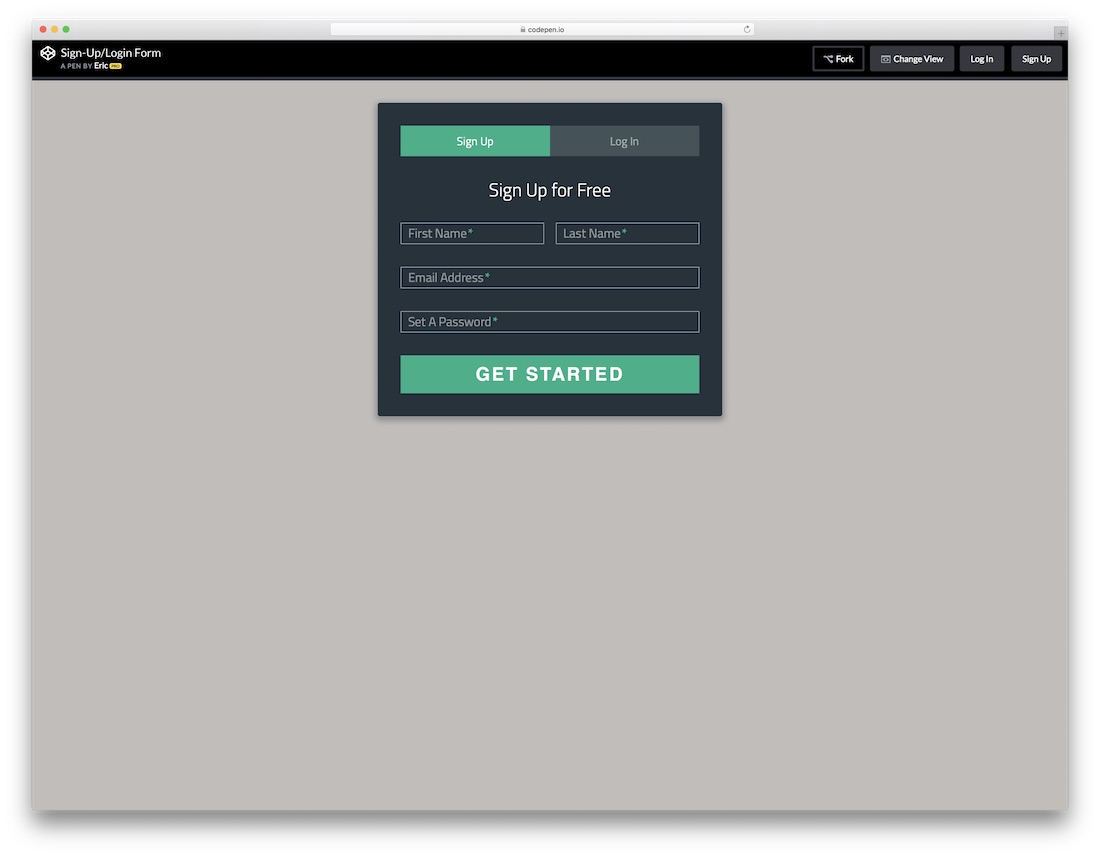button: (398, 353, 701, 395), (397, 123, 551, 158), (550, 124, 703, 158), (869, 44, 955, 72), (1011, 44, 1062, 74), (812, 44, 866, 72), (958, 44, 1006, 73)
field: (399, 309, 703, 334), (399, 265, 702, 290), (397, 220, 547, 246), (554, 220, 701, 246)
